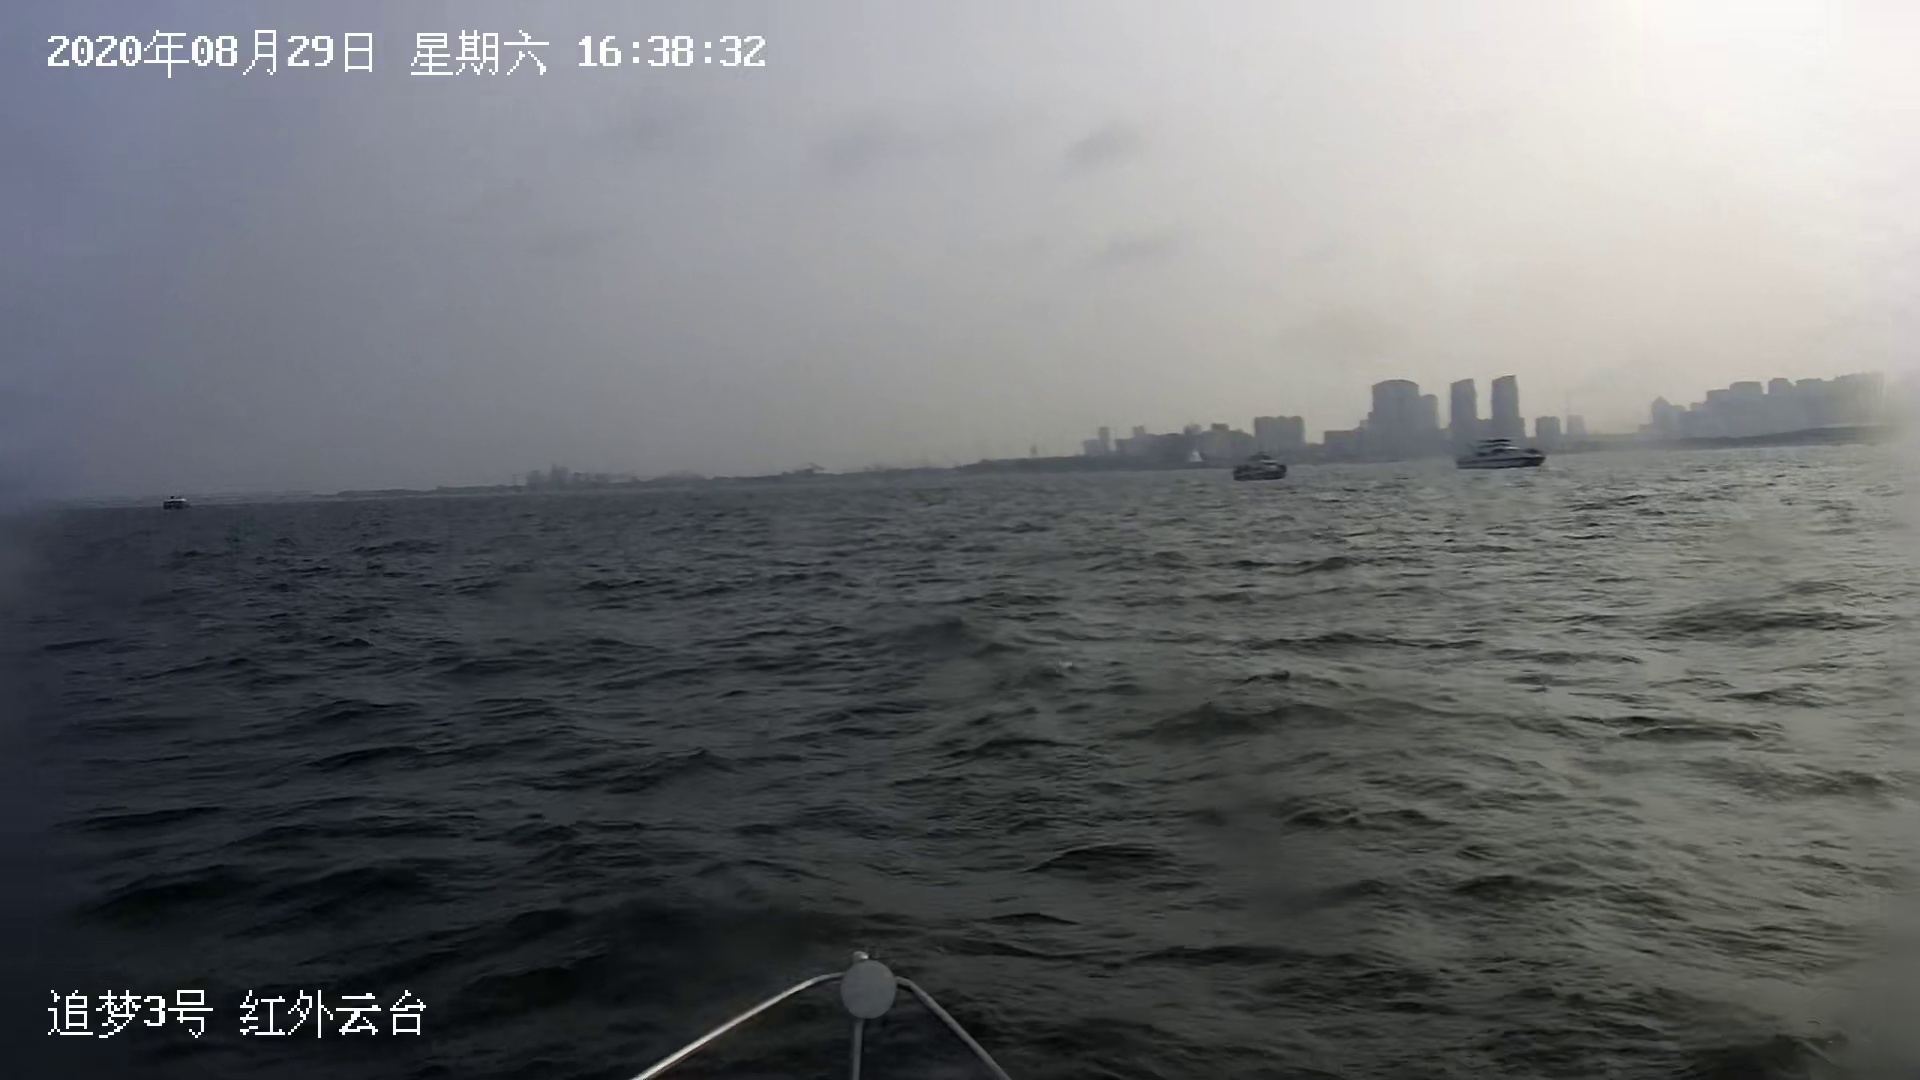barrier: (1465, 440, 1559, 472), (1229, 448, 1295, 483), (161, 493, 196, 516)
coast: (261, 367, 1920, 505)
